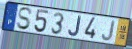3: (50, 13, 66, 37)
4: (84, 17, 97, 41)
5: (34, 9, 50, 34)
J: (101, 20, 116, 42), (68, 15, 82, 37)
S: (16, 7, 34, 32)
